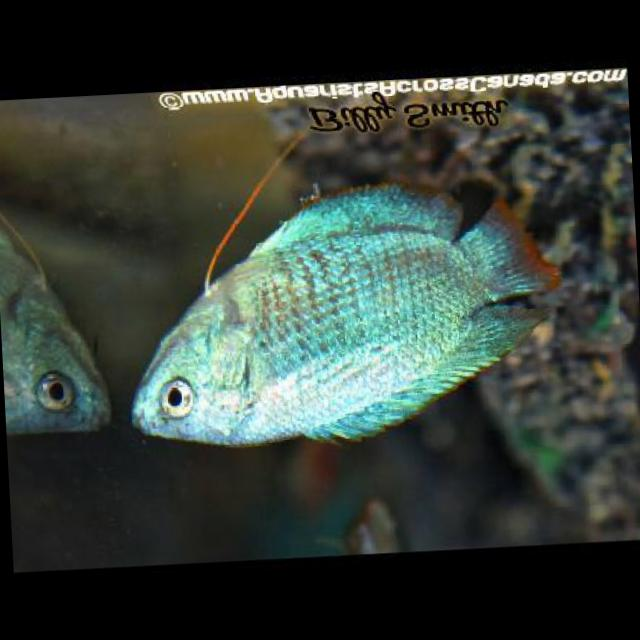Gourami: (118, 182, 568, 459)
